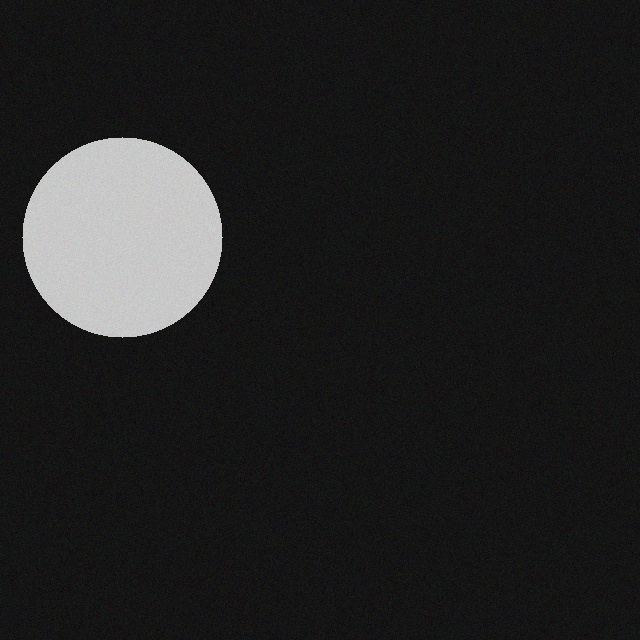circle: (33, 149, 233, 349)
